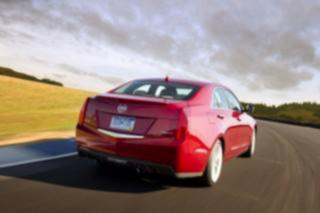cadillac: (113, 103, 130, 115)
